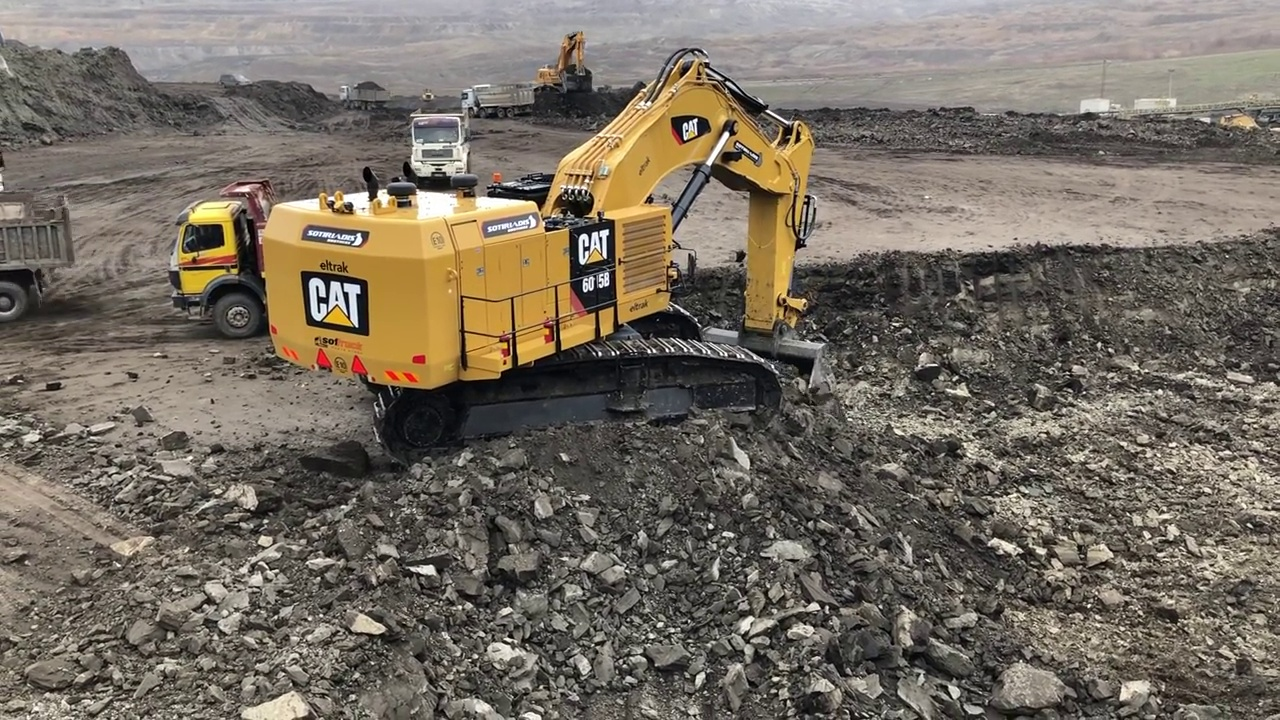excavator: (262, 44, 848, 460), (540, 30, 600, 101)
truck: (170, 179, 484, 340), (1, 184, 75, 327), (408, 109, 472, 186), (461, 81, 537, 119)
